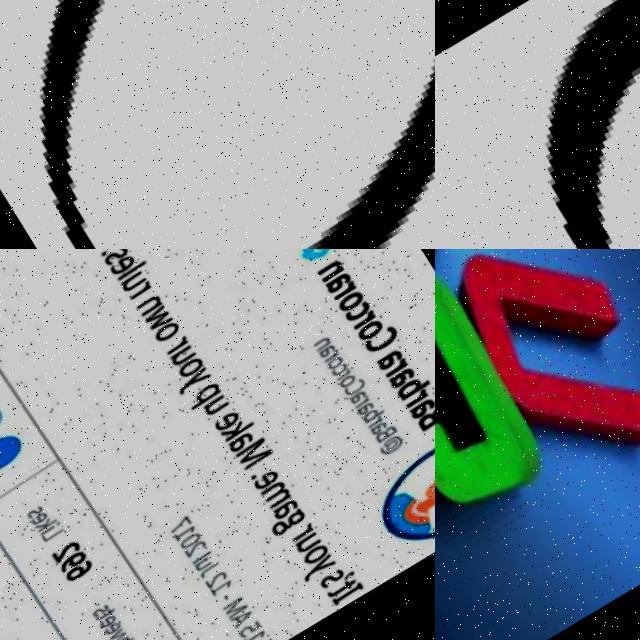0: (176, 528, 202, 550)
1: (207, 574, 233, 596), (171, 520, 197, 541), (240, 624, 266, 640)
2: (47, 536, 83, 565), (181, 536, 208, 558), (203, 566, 229, 588)
5: (235, 616, 262, 638)
6: (63, 555, 96, 583), (247, 634, 276, 640)
7: (166, 512, 192, 533)
9: (54, 545, 89, 574)
C: (435, 249, 559, 538)
U: (435, 249, 640, 506)
